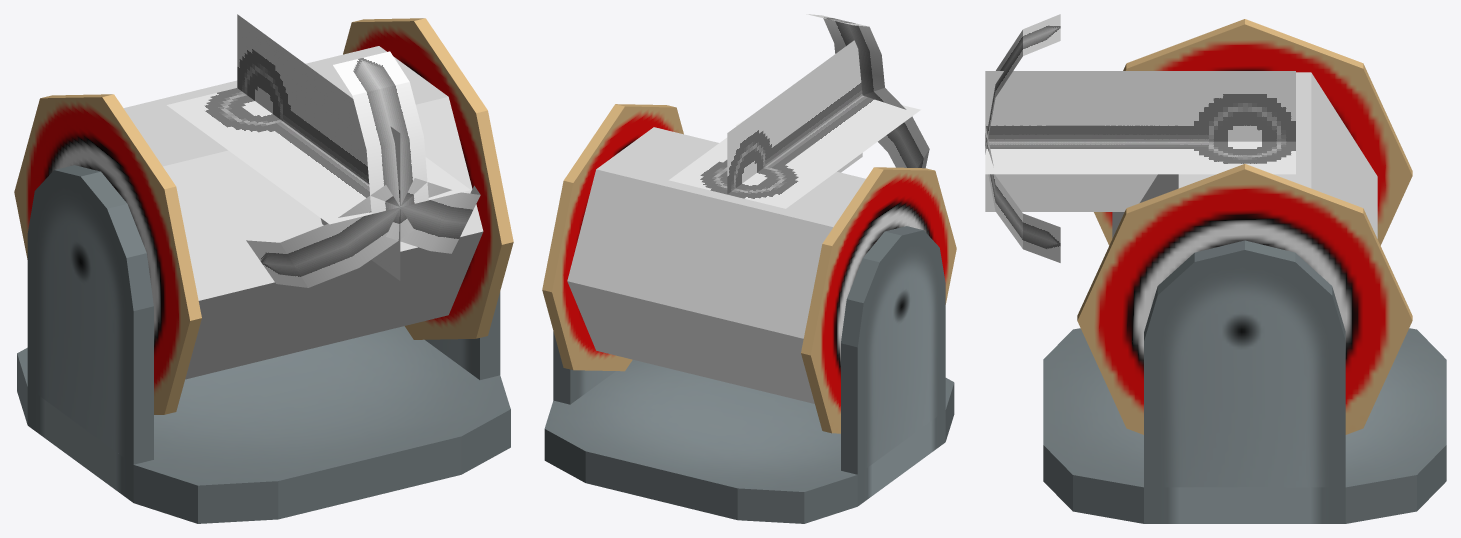
Rendered from HookShot.fbx.
3 renders of one model, left to right at view 1: azimuth 30°, elevation 25°; view 2: azimuth 150°, elevation 25°; view 3: azimuth 270°, elevation 25°, orthographic. The views are drawn at different scales.
Parts seen in each view (by area): view 1: Holder, RopeSpool, Hook; view 2: RopeSpool, Holder, Hook; view 3: Holder, RopeSpool, Hook.
Part boxes in pixels (x1,y1,x2,y2): Holder: (17,165,510,523); RopeSpool: (14,18,513,414); Hook: (167,14,480,287); RopeSpool: (542,104,956,433); Holder: (544,226,954,523); Hook: (669,14,929,208); Holder: (1043,240,1446,523); RopeSpool: (1077,19,1412,434); Hook: (985,14,1295,262).
Bounding box in the file's own units: 180 × 203 × 206.
